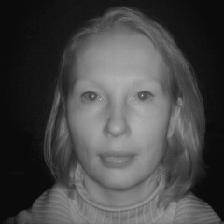normal: (36, 6, 211, 202)
